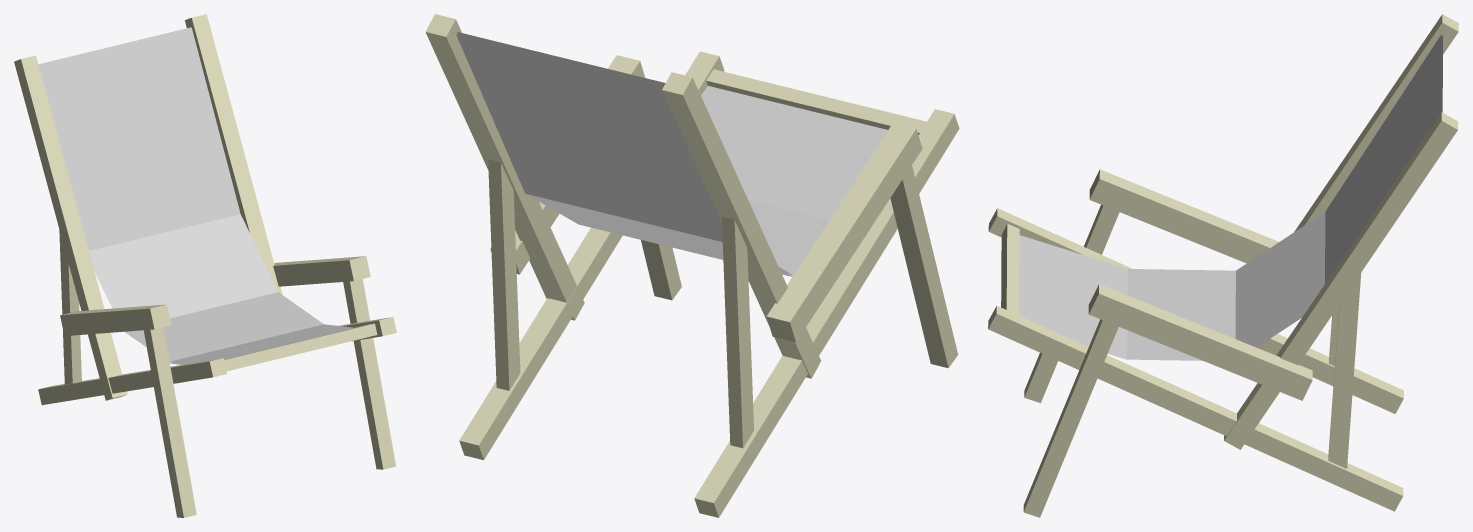
Rendered from sunbed_001.fbx.
3 renders of one model, left to right at view 1: azimuth 30°, elevation 25°; view 2: azimuth 150°, elevation 25°; view 3: azimuth 270°, elevation 25°, orthographic. The views are drawn at different scales.
Visible parts, largest first — view 1: sunbed_001; view 2: sunbed_001; view 3: sunbed_001.
Boxes of the visible parts, x1=… form: sunbed_001: x1=14, y1=14, x2=396, y2=517; sunbed_001: x1=425, y1=14, x2=959, y2=517; sunbed_001: x1=988, y1=14, x2=1458, y2=517.
Size of the model in its own units: 67.37 by 98.71 by 108.
